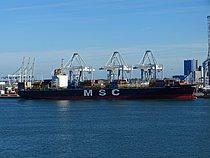Ship: (19, 66, 200, 108)
